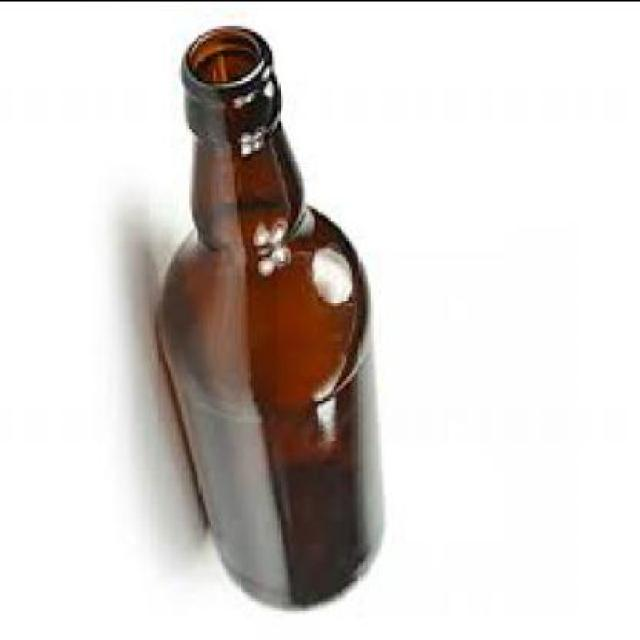GLASS: (158, 28, 387, 612)
